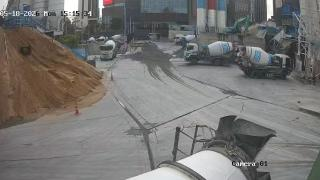cement_mixer_truck: (118, 113, 275, 180), (237, 45, 293, 79), (183, 42, 233, 67), (99, 39, 117, 60), (173, 34, 197, 46), (84, 35, 95, 44), (106, 34, 124, 39), (97, 35, 105, 43)
